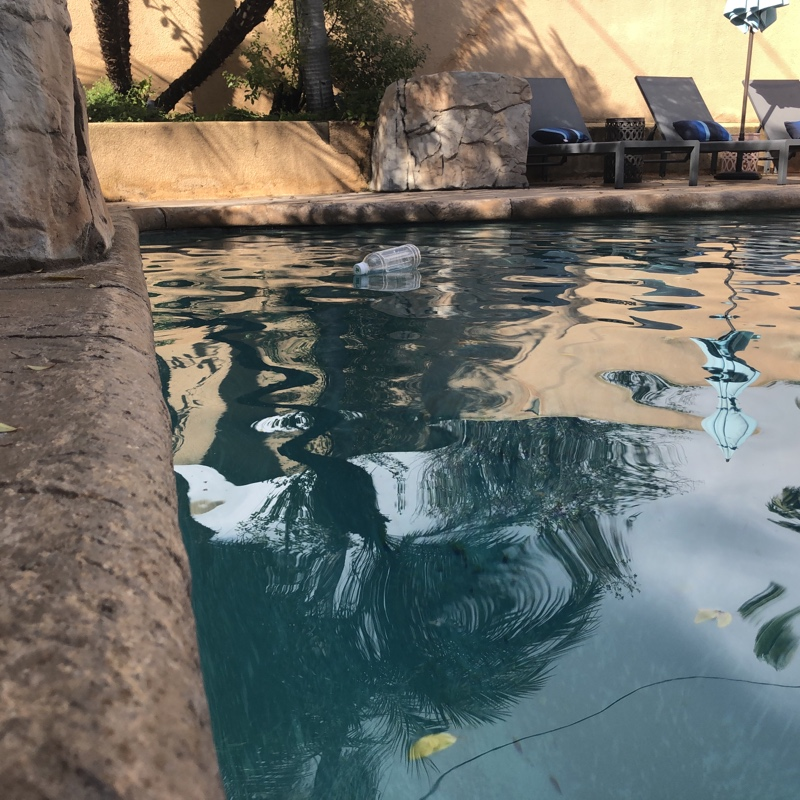Plastic Bottle: (352, 242, 422, 278)
